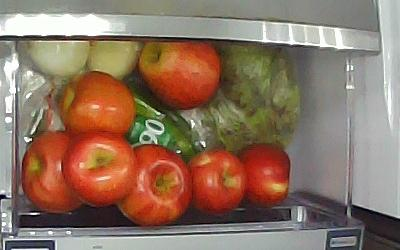apple: (120, 144, 192, 228), (139, 42, 221, 108), (65, 133, 138, 206), (21, 133, 82, 212), (58, 72, 134, 135), (188, 149, 245, 213), (237, 144, 291, 209)
